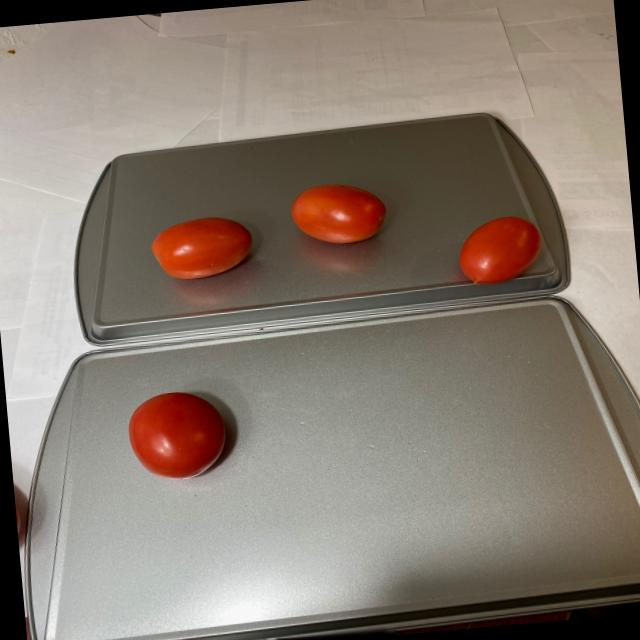tomato: (136, 178, 397, 290), (112, 383, 238, 489), (454, 215, 545, 289)
